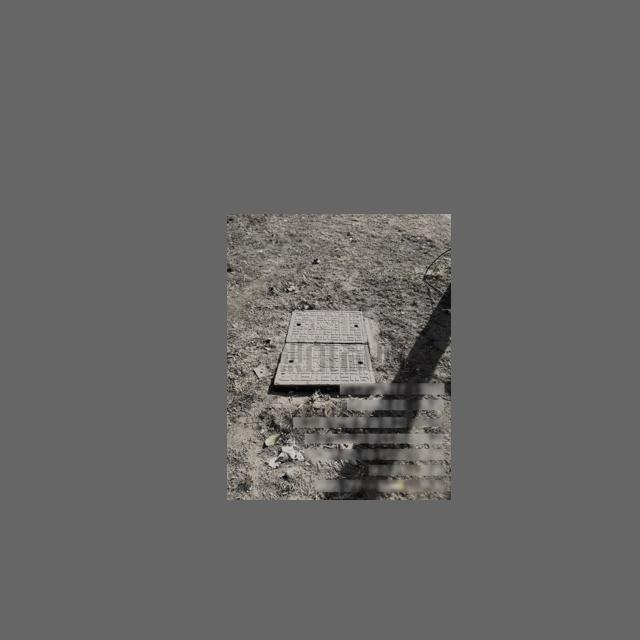uncovered: (271, 309, 376, 393)
